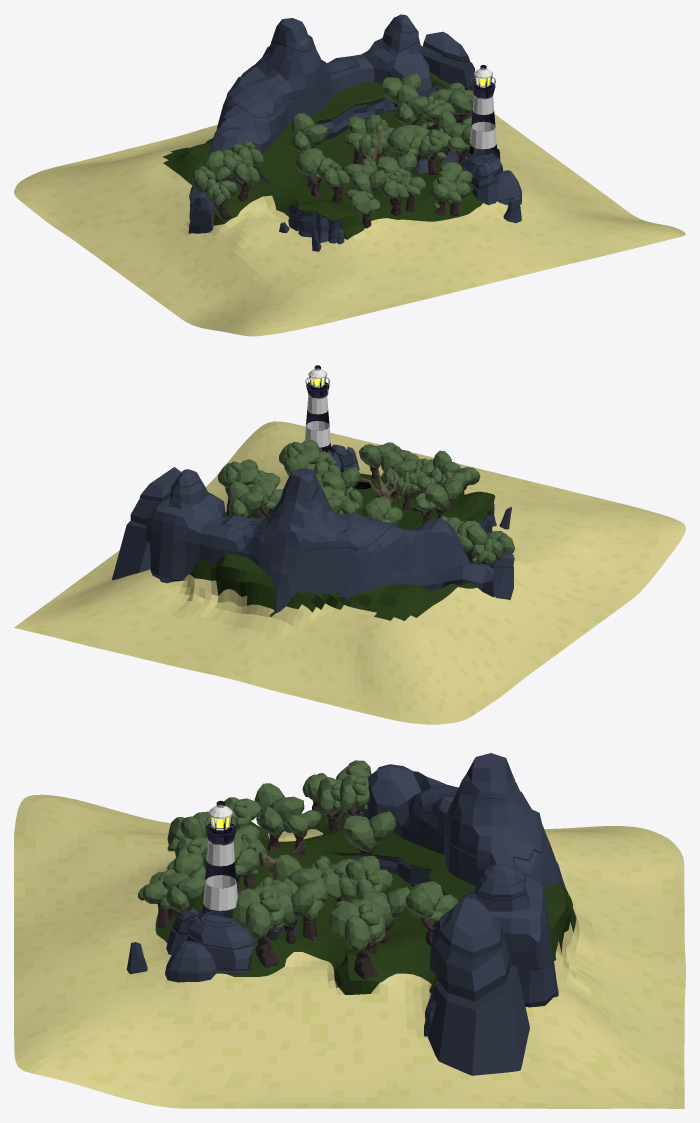
The model's file is MAPA.glb.
The picture shows the model from 3 angles, top to bottom: view 1: azimuth 30°, elevation 25°; view 2: azimuth 150°, elevation 25°; view 3: azimuth 270°, elevation 25°; orthographic projection. The views are drawn at different scales.
Visible parts, largest first — view 1: Cube.007; view 2: Cube.007; view 3: Cube.007.
Boxes of the visible parts, box(x1,y1,x2,y2) form: Cube.007: box(14, 14, 685, 336); Cube.007: box(14, 365, 685, 724); Cube.007: box(14, 753, 685, 1108).
Bounding box in the file's own units: 106 × 39.82 × 106.
